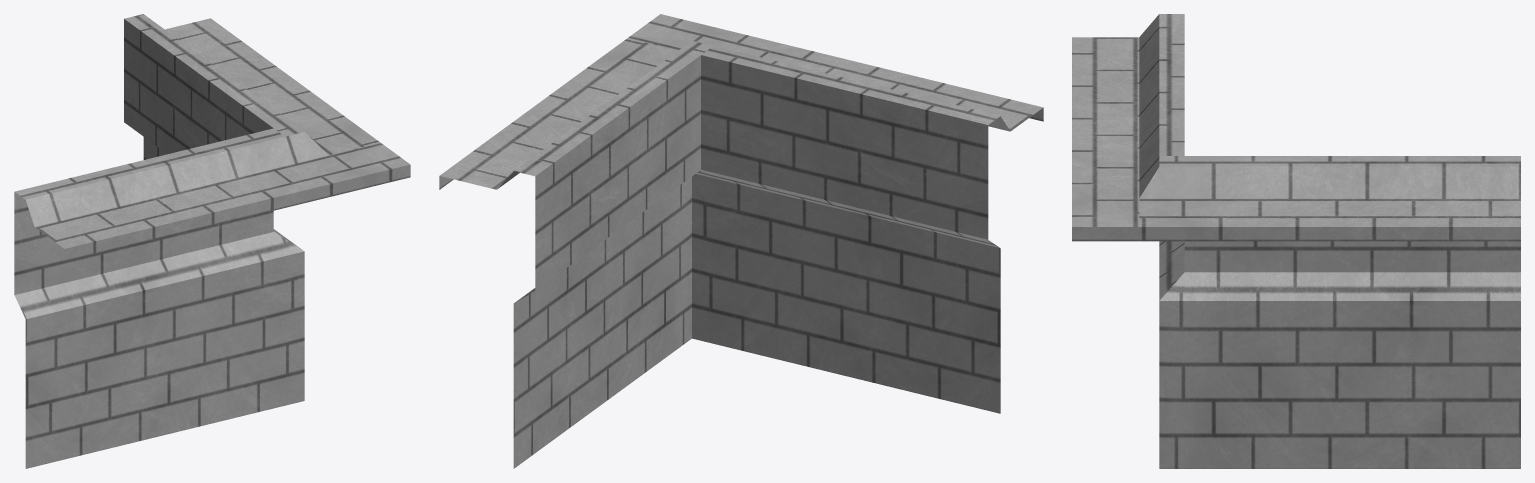
Rendered from CanalLedge_InnerCorner.fbx.
3 views of the same model, side by side, from view 1: azimuth 30°, elevation 25°; view 2: azimuth 150°, elevation 25°; view 3: azimuth 270°, elevation 25° (orthographic). The views are drawn at different scales.
Visible parts, largest first — view 1: Plane011; view 2: Plane011; view 3: Plane011.
Boxes of the visible parts, <box> form: Plane011: <box>14,14,410,468</box>; Plane011: <box>439,14,1043,468</box>; Plane011: <box>1072,14,1520,468</box>.
Size of the model in its own units: 4.72 by 3.5 by 4.72.
1 material, 1 textured.
